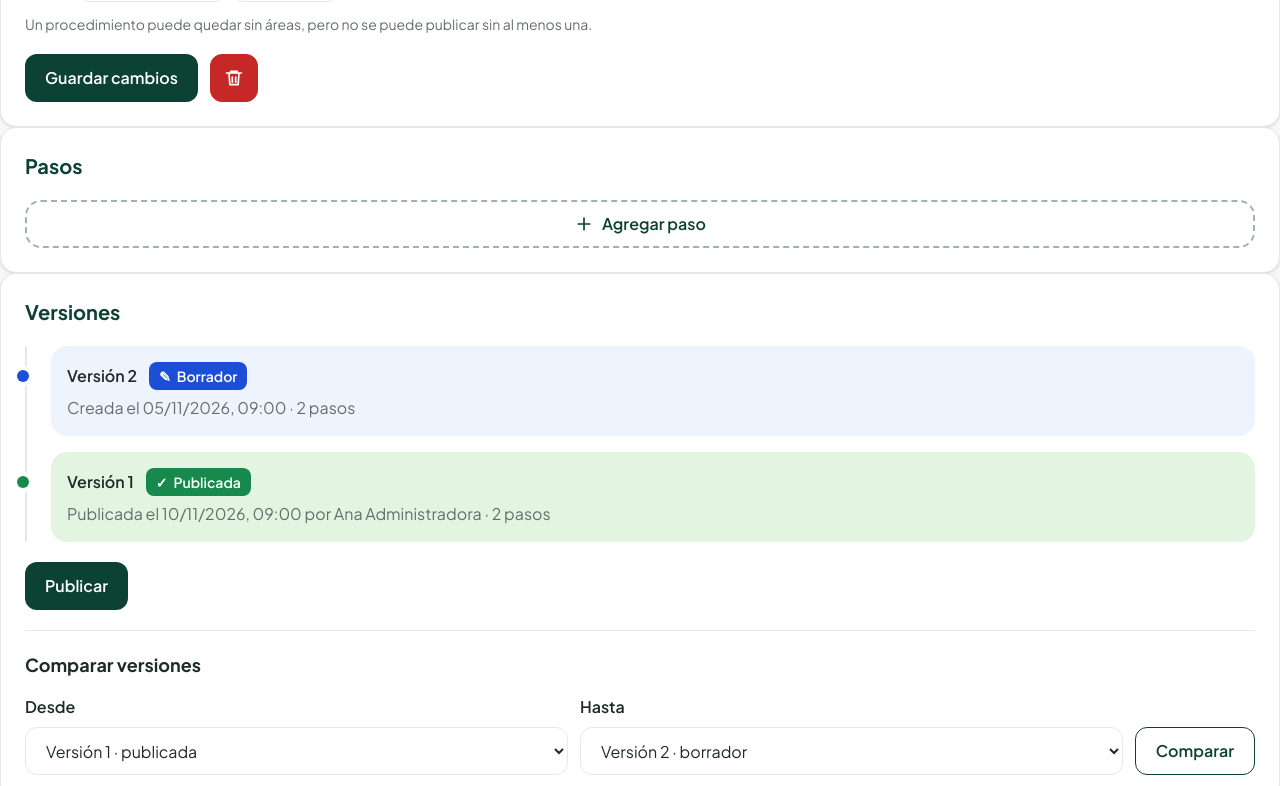
Scenario: the versions of the procedure (spec 015, R8) › the confirmation to publish names a replaced version only if one is published
Earlier steps of the test are not shown.
(page scrolled)
Click the button "Publicar".
click(76, 586)  # box 25,562 -> 128,610
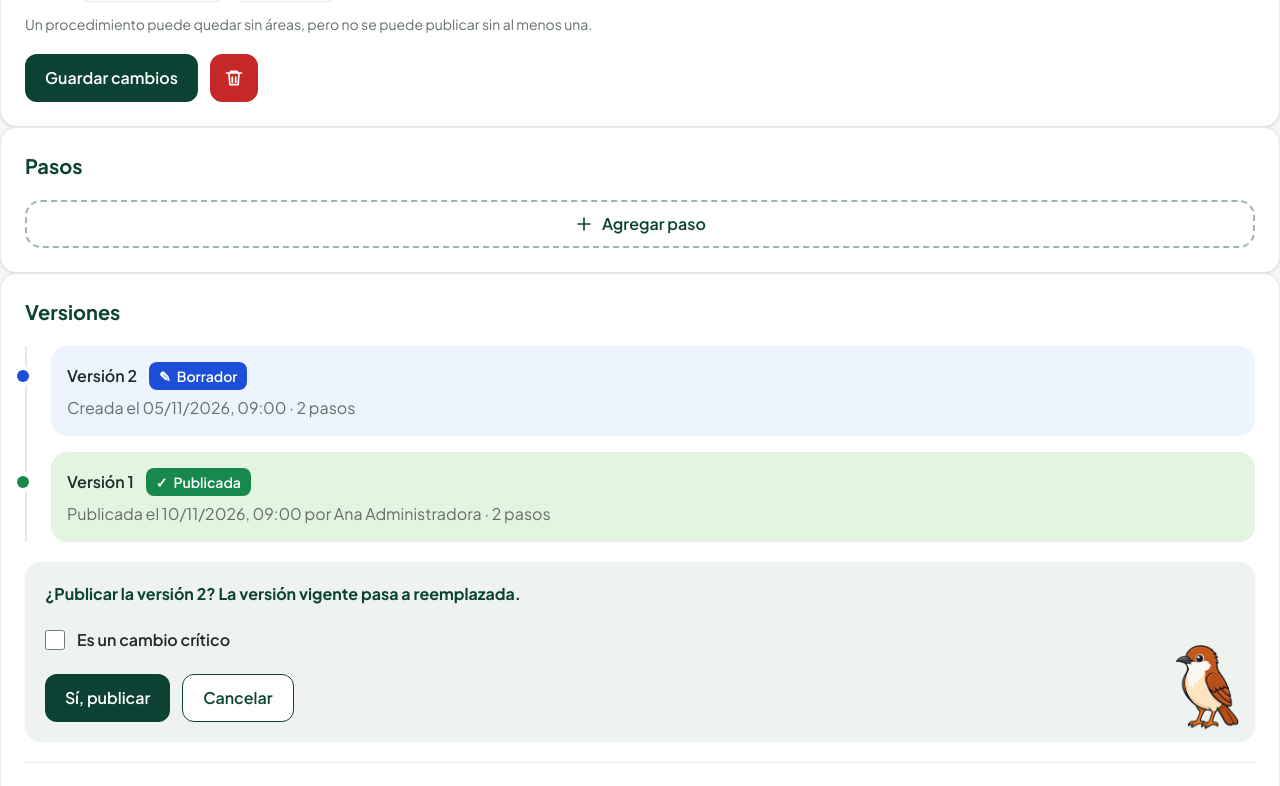
Check: the element named "Confirmar publicación" shows "La versión vigente pasa a reemplazada.", box 218,583 -> 521,604
